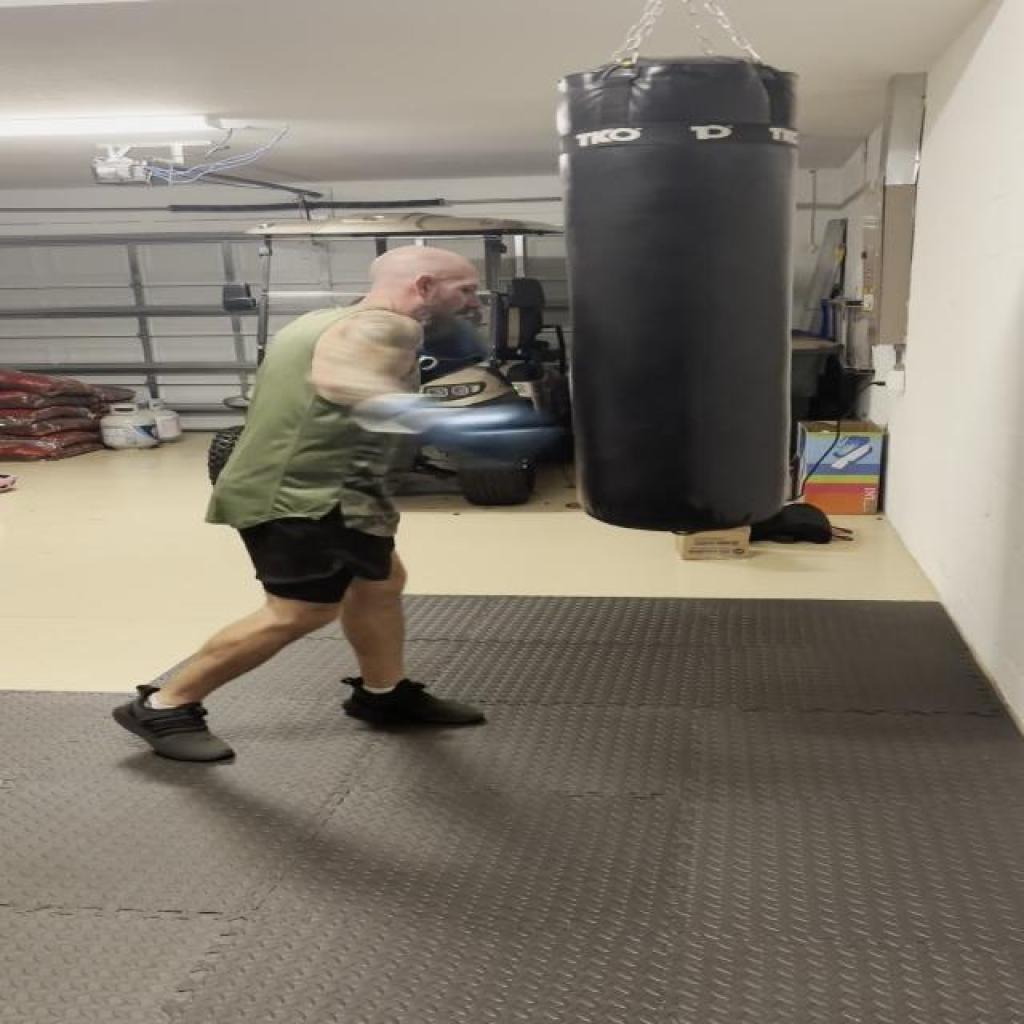bag: (554, 42, 822, 531)
hook: (238, 203, 653, 482)
